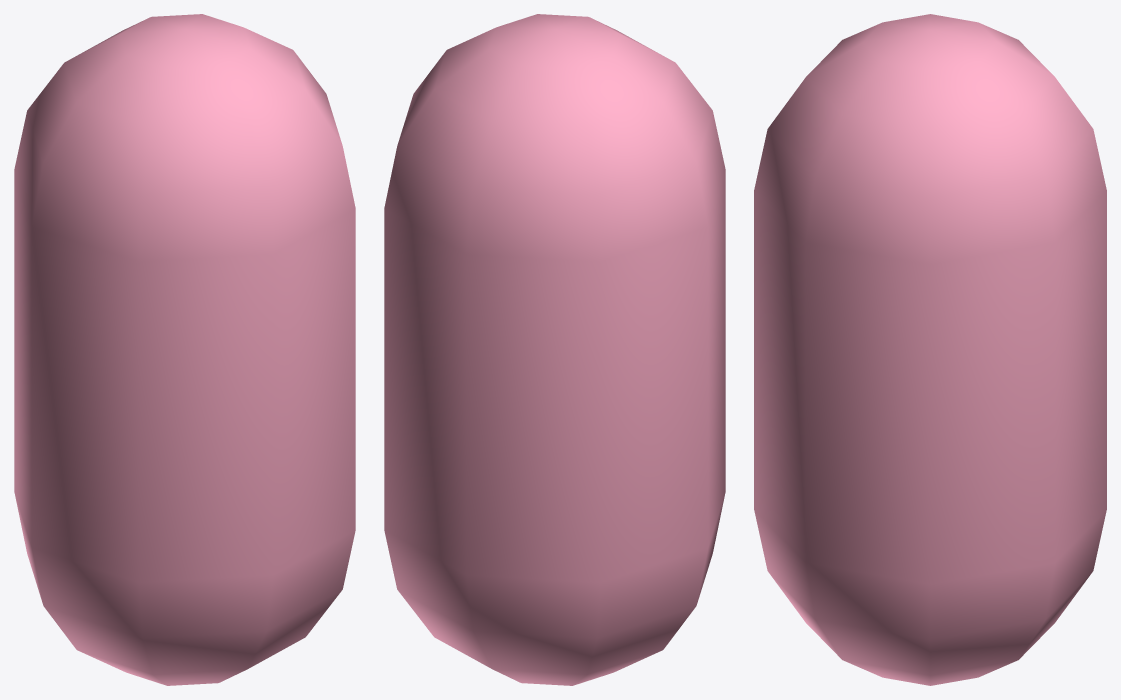
File: dummy.FBX
The picture shows the model from 3 angles, left to right: view 1: azimuth 30°, elevation 25°; view 2: azimuth 150°, elevation 25°; view 3: azimuth 270°, elevation 25°; orthographic projection.
Parts seen in each view (by area): view 1: Capsule01; view 2: Capsule01; view 3: Capsule01.
Boxes of the visible parts, box(x1,y1,x2,y2) form: Capsule01: box(14, 14, 355, 685); Capsule01: box(384, 14, 725, 685); Capsule01: box(754, 14, 1106, 685).
Bounding box in the file's own units: 20 × 40 × 20.
1 material, 1 textured.
